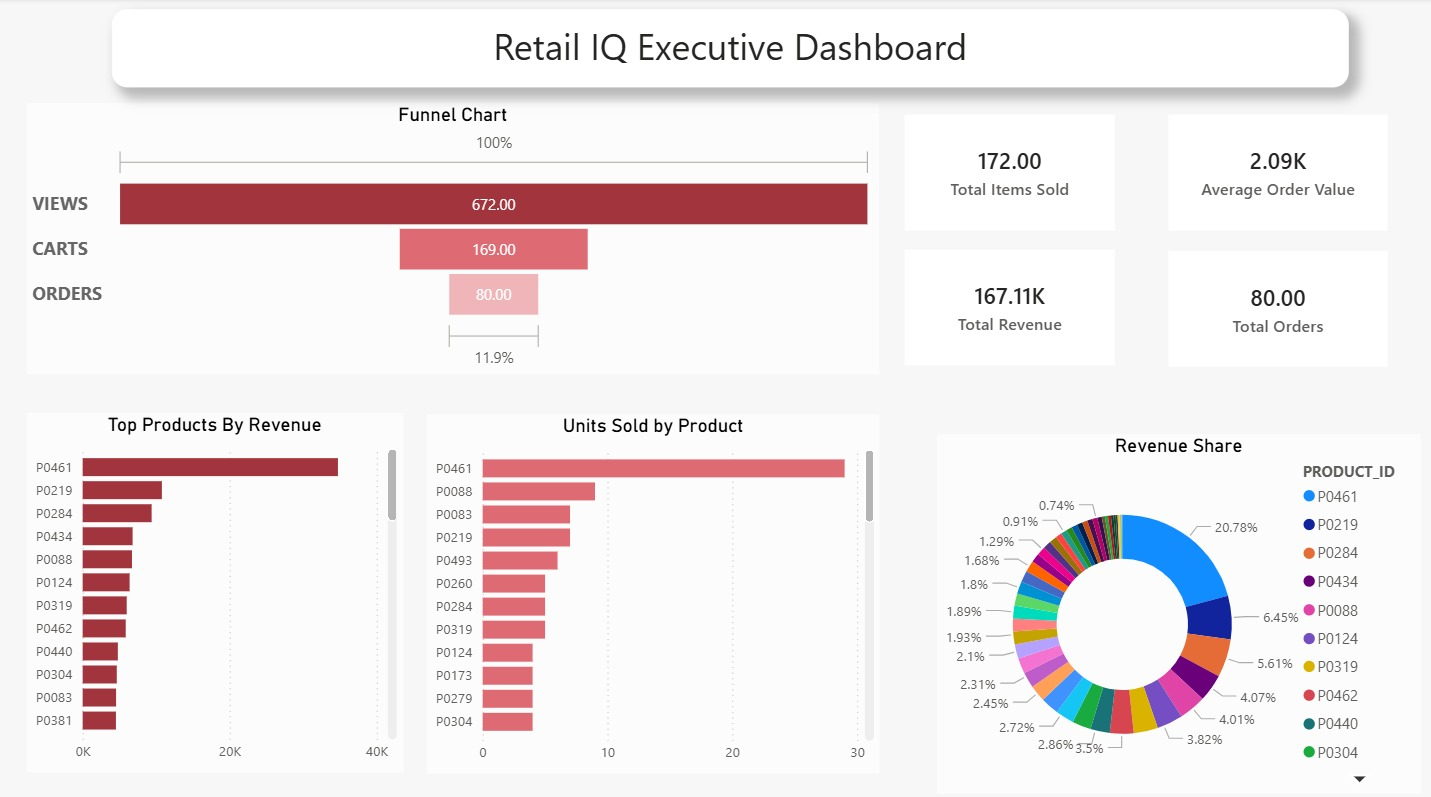

Layout of this report page (visuals, bound fields, positions):
{"tool":"powerbi","page":{"name":"Executive Overview","canvas":[1280,720],"ordinal":0},"visuals":[{"type":"cardVisual","fields":{"Data":["CONVERSION_FUNNEL.Total Revenue"]},"box":[802.7,219.6,197.6,113.9],"z":0},{"type":"cardVisual","fields":{"Data":["CONVERSION_FUNNEL.Total Orders"]},"box":[1037.4,220.9,205.8,113.9],"z":1000},{"type":"cardVisual","fields":{"Data":["CONVERSION_FUNNEL.Total Items Sold"]},"box":[802.7,98.8,197.6,113.9],"z":2000},{"type":"cardVisual","fields":{"Data":["CONVERSION_FUNNEL.Average Order Value"]},"box":[1037.4,98.8,205.8,113.9],"z":3000},{"type":"clusteredBarChart","title":"Top Products By Revenue","fields":{"Category":["PRODUCT_PERFORMANCE.PRODUCT_ID"],"Y":["Sum(PRODUCT_PERFORMANCE.REVENUE)"]},"box":[26.1,369.1,334.8,319.7],"z":4000},{"type":"donutChart","title":"Revenue Share","fields":{"Category":["PRODUCT_PERFORMANCE.PRODUCT_ID"],"Y":["Sum(PRODUCT_PERFORMANCE.REVENUE)"]},"box":[835.7,388.3,430.9,319.7],"z":5000},{"type":"funnel","title":"Funnel Chart","fields":{"Y":["Sum(CONVERSION_FUNNEL.VIEWS)","Sum(CONVERSION_FUNNEL.CARTS)","Sum(CONVERSION_FUNNEL.ORDERS)"]},"box":[26.1,93.3,758.8,241.5],"z":6000},{"type":"clusteredBarChart","title":"Units Sold by Product","fields":{"Category":["PRODUCT_PERFORMANCE.PRODUCT_ID"],"Y":["Sum(PRODUCT_PERFORMANCE.UNITS_SOLD)"]},"box":[381.5,370.5,403.4,319.7],"z":7000},{"type":"textbox","box":[101.5,9.6,1101.9,70],"z":8000}]}

Visuals, with their boxes in screenshot pixels (x1, y1, x2, y2), scaled from the page's 1280x720 canvas onto the 1431x797 screenshot:
cardVisual - CONVERSION_FUNNEL.Total Revenue: (left=897, top=243, right=1118, bottom=369)
cardVisual - CONVERSION_FUNNEL.Total Orders: (left=1160, top=245, right=1390, bottom=371)
cardVisual - CONVERSION_FUNNEL.Total Items Sold: (left=897, top=109, right=1118, bottom=235)
cardVisual - CONVERSION_FUNNEL.Average Order Value: (left=1160, top=109, right=1390, bottom=235)
"Top Products By Revenue" clusteredBarChart: (left=29, top=409, right=403, bottom=762)
"Revenue Share" donutChart: (left=934, top=430, right=1416, bottom=784)
"Funnel Chart" funnel: (left=29, top=103, right=877, bottom=371)
"Units Sold by Product" clusteredBarChart: (left=427, top=410, right=877, bottom=764)
textbox: (left=113, top=11, right=1345, bottom=88)
